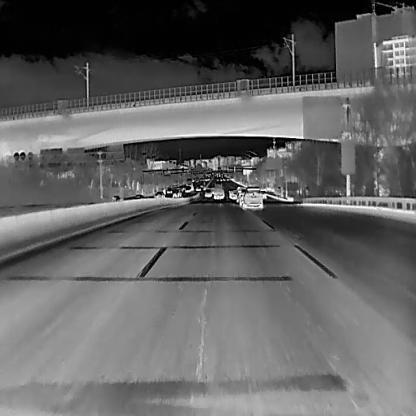car: (242, 185, 262, 208), (213, 182, 224, 198), (228, 190, 237, 199), (172, 189, 181, 198), (154, 191, 165, 197), (204, 188, 211, 197), (185, 185, 191, 192)
